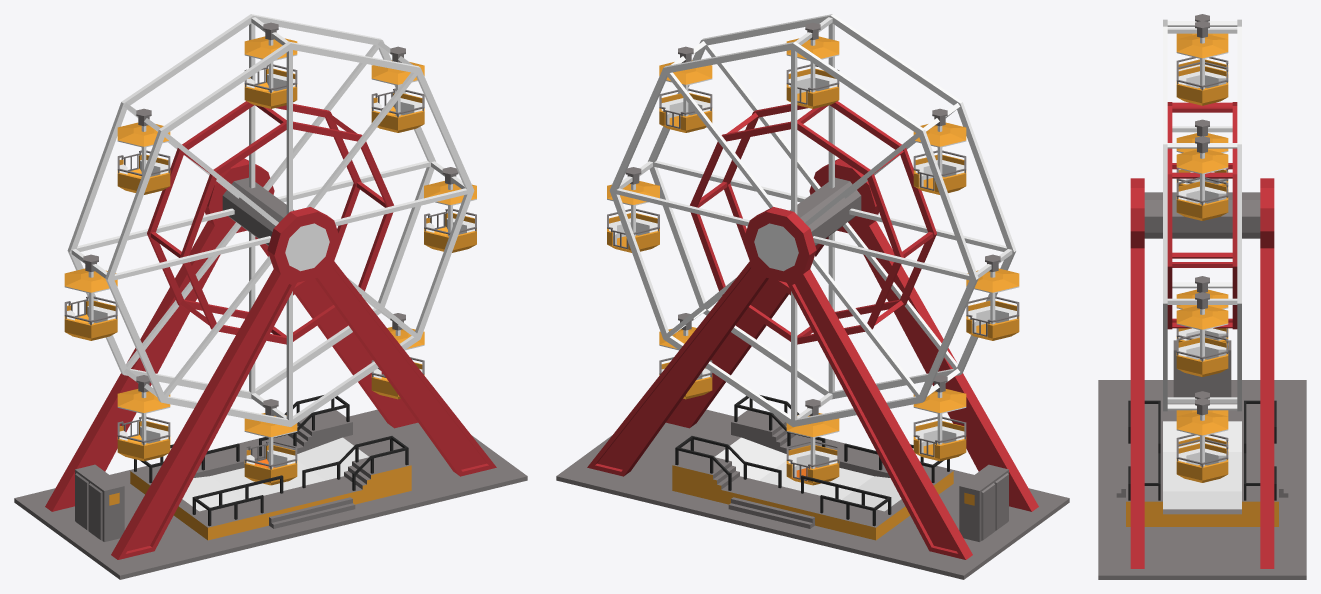
Rendered from ferris-wheel.glb.
The picture shows the model from 3 angles, left to right: view 1: azimuth 30°, elevation 25°; view 2: azimuth 150°, elevation 25°; view 3: azimuth 270°, elevation 25°; orthographic projection.
Visible parts, largest first — view 1: ferris-wheel-stand, ferris-wheel-main, ferris-wheel-gondola8, ferris-wheel-gondola7, ferris-wheel-gondola1, ferris-wheel-gondola6, ferris-wheel-gondola5, ferris-wheel-gondola4, ferris-wheel-gondola3, ferris-wheel-gondola2; view 2: ferris-wheel-stand, ferris-wheel-main, ferris-wheel-gondola8, ferris-wheel-gondola7, ferris-wheel-gondola1, ferris-wheel-gondola6, ferris-wheel-gondola5, ferris-wheel-gondola4, ferris-wheel-gondola3, ferris-wheel-gondola2; view 3: ferris-wheel-stand, ferris-wheel-main, ferris-wheel-gondola4, ferris-wheel-gondola5, ferris-wheel-gondola3, ferris-wheel-gondola2, ferris-wheel-gondola8, ferris-wheel-gondola7, ferris-wheel-gondola1, ferris-wheel-gondola6.
Boxes of the visible parts, bbox=[...] form: ferris-wheel-stand: bbox=[14, 158, 527, 579]; ferris-wheel-main: bbox=[67, 14, 474, 426]; ferris-wheel-gondola8: bbox=[117, 375, 170, 461]; ferris-wheel-gondola7: bbox=[64, 254, 117, 340]; ferris-wheel-gondola1: bbox=[244, 399, 297, 485]; ferris-wheel-gondola6: bbox=[117, 108, 170, 194]; ferris-wheel-gondola5: bbox=[244, 22, 297, 108]; ferris-wheel-gondola4: bbox=[371, 46, 424, 132]; ferris-wheel-gondola3: bbox=[424, 167, 476, 252]; ferris-wheel-gondola2: bbox=[371, 313, 424, 399]; ferris-wheel-stand: bbox=[556, 158, 1069, 579]; ferris-wheel-main: bbox=[609, 14, 1016, 426]; ferris-wheel-gondola8: bbox=[913, 375, 966, 461]; ferris-wheel-gondola7: bbox=[966, 254, 1019, 340]; ferris-wheel-gondola1: bbox=[786, 399, 839, 485]; ferris-wheel-gondola6: bbox=[913, 108, 966, 194]; ferris-wheel-gondola5: bbox=[786, 22, 839, 108]; ferris-wheel-gondola4: bbox=[659, 46, 712, 132]; ferris-wheel-gondola3: bbox=[607, 167, 659, 252]; ferris-wheel-gondola2: bbox=[659, 313, 712, 399]; ferris-wheel-stand: bbox=[1098, 178, 1306, 579]; ferris-wheel-main: bbox=[1144, 19, 1260, 411]; ferris-wheel-gondola4: bbox=[1176, 136, 1228, 220]; ferris-wheel-gondola5: bbox=[1176, 21, 1228, 105]; ferris-wheel-gondola3: bbox=[1176, 292, 1228, 376]; ferris-wheel-gondola2: bbox=[1176, 398, 1228, 482]; ferris-wheel-gondola8: bbox=[1176, 276, 1228, 342]; ferris-wheel-gondola7: bbox=[1176, 119, 1228, 186]; ferris-wheel-gondola1: bbox=[1176, 391, 1228, 448]; ferris-wheel-gondola6: bbox=[1176, 14, 1228, 71].
Bounding box in the file's own units: 20.22 × 21.81 × 9.
Materials: 1 (1 with a texture image).
